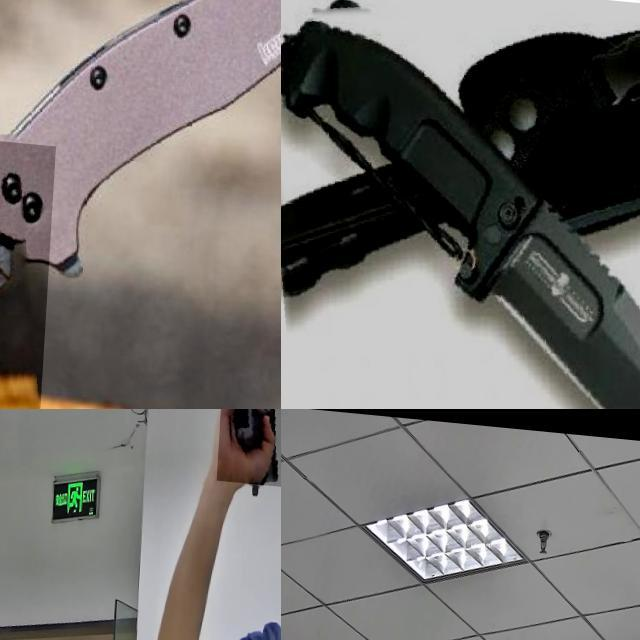-: (281, 0, 640, 409), (0, 117, 147, 409)
gun-knife-thesis - v11 Yolov5 augmented: (221, 409, 281, 504)
